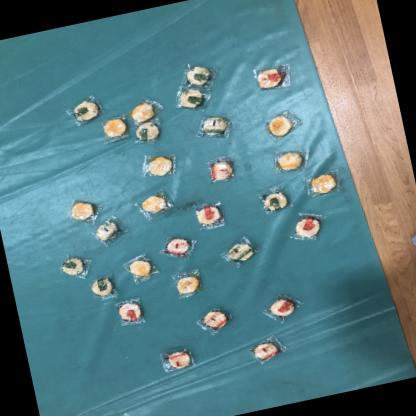green_setoshio: (219, 234, 260, 269), (194, 110, 233, 144), (254, 183, 293, 216), (88, 214, 127, 247), (56, 250, 94, 283), (172, 83, 212, 114), (68, 94, 106, 126), (127, 117, 167, 147), (179, 60, 218, 90), (87, 273, 120, 303)
red_setoshio: (258, 286, 304, 328), (190, 301, 237, 338), (284, 209, 328, 248), (189, 195, 231, 231), (244, 335, 286, 368), (251, 62, 293, 94), (200, 155, 238, 188), (112, 294, 148, 328), (156, 232, 194, 264), (158, 346, 192, 374)
yellow_setoshio: (130, 146, 184, 184), (266, 142, 315, 176), (120, 248, 163, 286), (132, 184, 176, 221), (260, 106, 302, 142), (93, 111, 133, 148), (302, 167, 342, 200), (169, 267, 205, 301), (64, 193, 102, 225), (125, 95, 159, 124)
